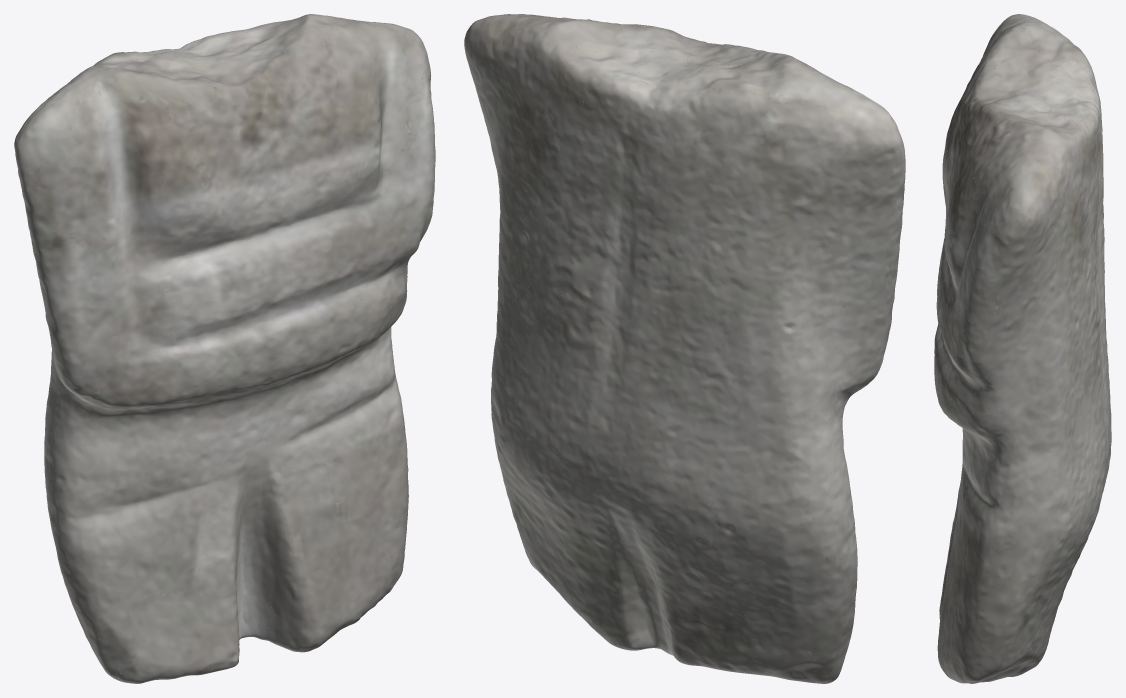
The model's file is torso_of_folded-arm_figurine.glb.
The picture shows the model from 3 angles, left to right: view 1: azimuth 30°, elevation 25°; view 2: azimuth 150°, elevation 25°; view 3: azimuth 270°, elevation 25°; orthographic projection. The views are drawn at different scales.
Visible parts, largest first — view 1: Object_3, Object_2, Object_4; view 2: Object_2, Object_3, Object_4; view 3: Object_3, Object_4, Object_2.
Part boxes in pixels (x1,y1,x2,y2): Object_3: (45,14,435,680); Object_2: (14,42,307,683); Object_4: (44,16,434,678); Object_2: (499,25,905,683); Object_3: (465,14,884,682); Object_4: (464,14,856,682); Object_3: (934,26,1102,683); Object_4: (936,58,1094,683); Object_2: (939,14,1111,682).
Size of the model in its own units: 46.55 by 64.74 by 18.12.
Materials: 1 (1 with a texture image).
